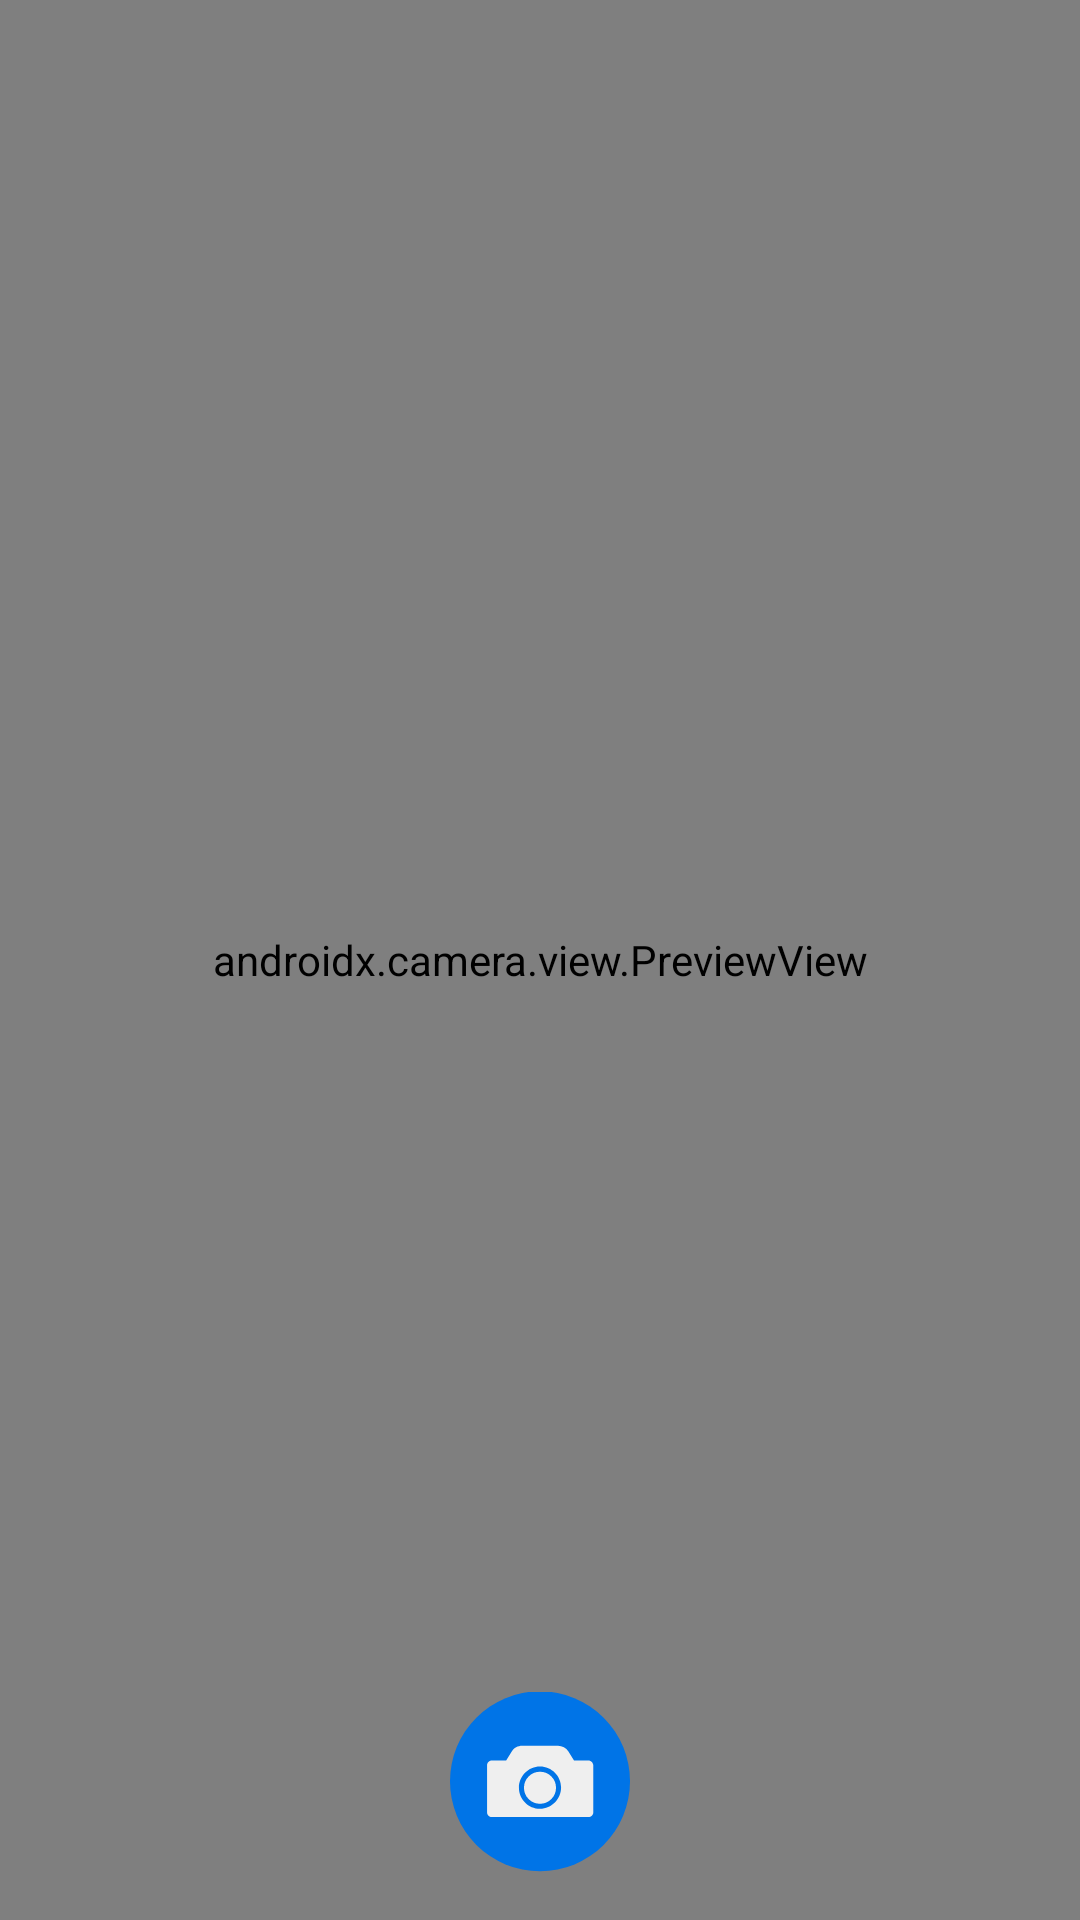

Point at icon controls on the screen. Image size 1080 × 1920, points as (x,y).
capture: (540,1782)
